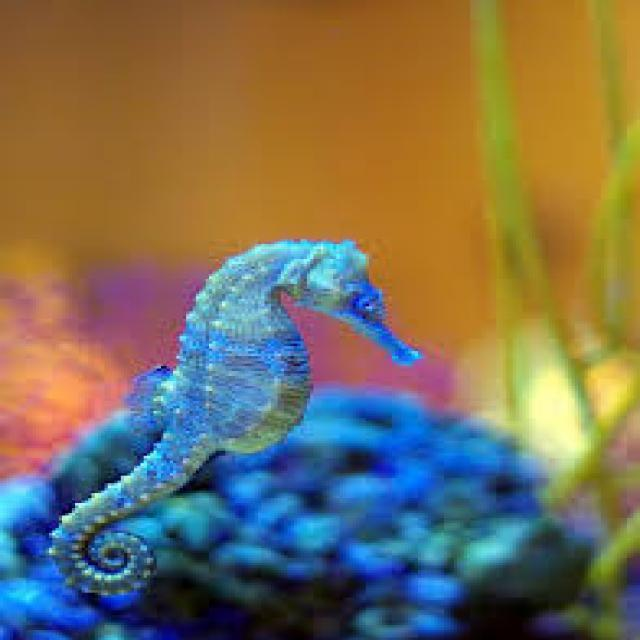SeaHorse: (46, 239, 422, 613)
